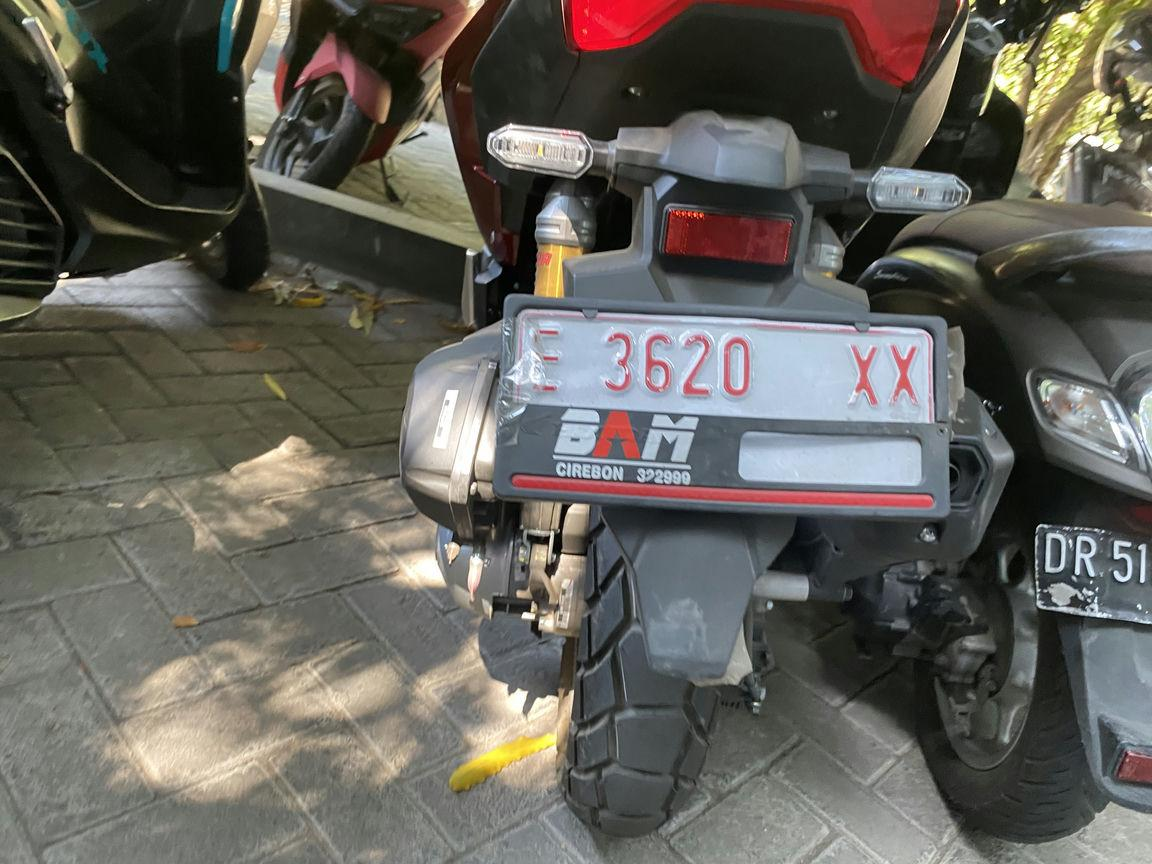plat: (495, 304, 950, 507)
